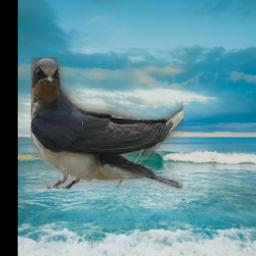Swallow: (31, 58, 183, 190)
